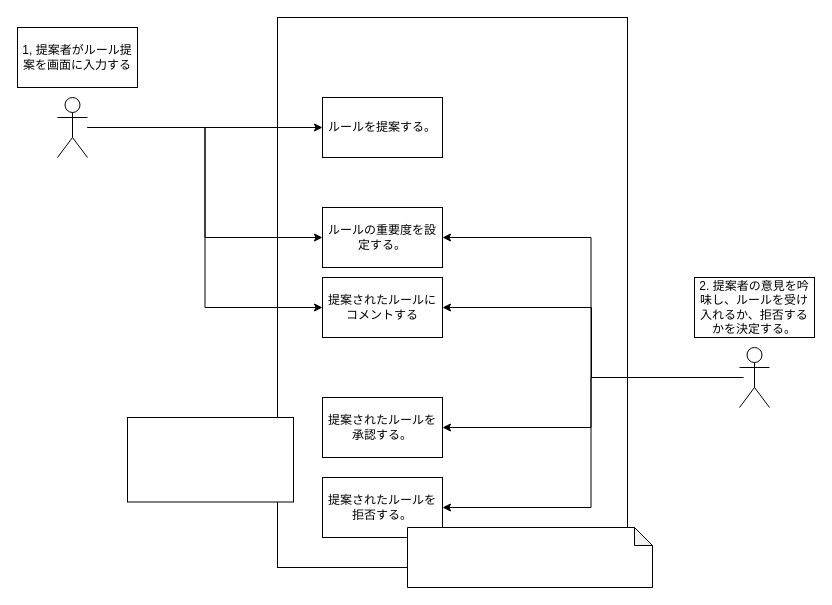
Some shapes in this 832 by 605 pixel diagram are drawn without their labels. Here are the shapes that lost their labels. From the top down, the box of each, then its label:
(56, 96, 88, 158): 提案者
(738, 346, 770, 408): 承認者
(126, 416, 294, 502): 3. 以下の通知を提案者、承認者に送信する。 ・ルールが拒否された ・ルールが承認された ・ルールへのコメント
(406, 526, 652, 588): 提案されたルールはコメントを通じて話し合うか、直接会話するかは利用者が決める。
